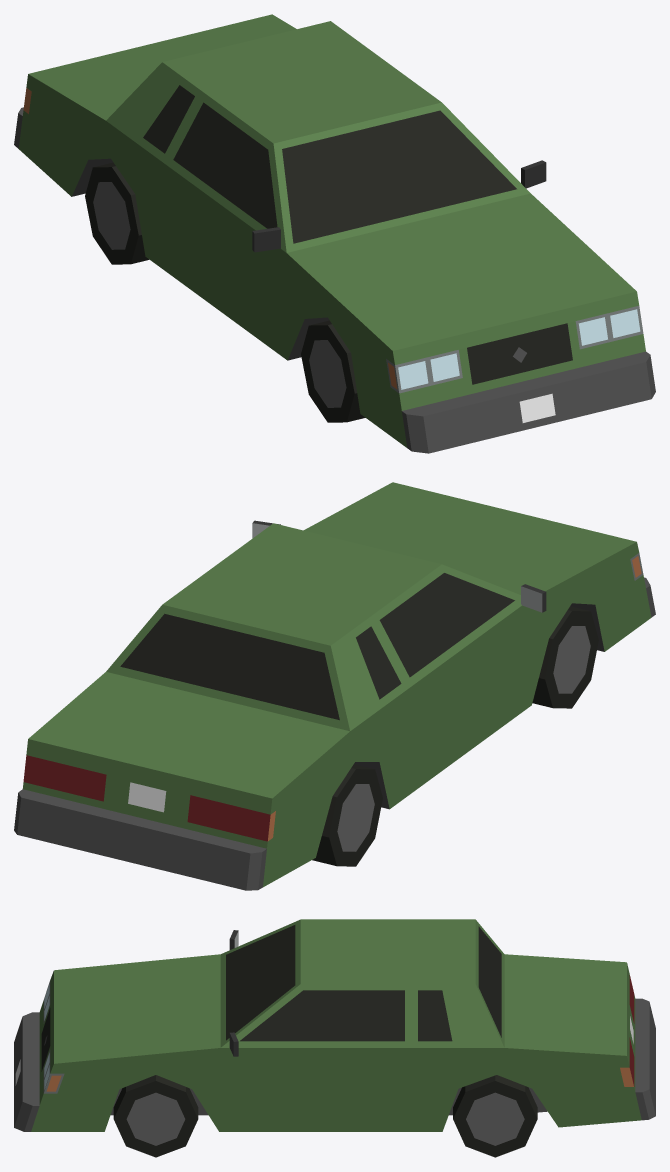
File: Veh_Coupe_03_Green.obj
3 renders of one model, top to bottom at view 1: azimuth 30°, elevation 25°; view 2: azimuth 150°, elevation 25°; view 3: azimuth 270°, elevation 25°, orthographic. The views are drawn at different scales.
Visible parts, largest first — view 1: Coupe_03_Green_Plane, Wheel_RR_Plane.004, Wheel_FR_Plane.002; view 2: Coupe_03_Green_Plane, Wheel_RR_Plane.004, Wheel_FR_Plane.002; view 3: Coupe_03_Green_Plane, Wheel_RL_Plane.003, Wheel_FL_Plane.001.
Boxes of the visible parts, bbox=[...] form: Coupe_03_Green_Plane: bbox=[14, 14, 655, 453]; Wheel_RR_Plane.004: bbox=[85, 162, 149, 264]; Wheel_FR_Plane.002: bbox=[301, 320, 365, 422]; Coupe_03_Green_Plane: bbox=[14, 482, 655, 890]; Wheel_RR_Plane.004: bbox=[312, 764, 382, 866]; Wheel_FR_Plane.002: bbox=[532, 606, 598, 708]; Coupe_03_Green_Plane: bbox=[14, 919, 655, 1131]; Wheel_RL_Plane.003: bbox=[453, 1075, 537, 1157]; Wheel_FL_Plane.001: bbox=[113, 1075, 198, 1157].
Bounding box in the file's own units: 1.14 × 0.7543 × 2.76.
